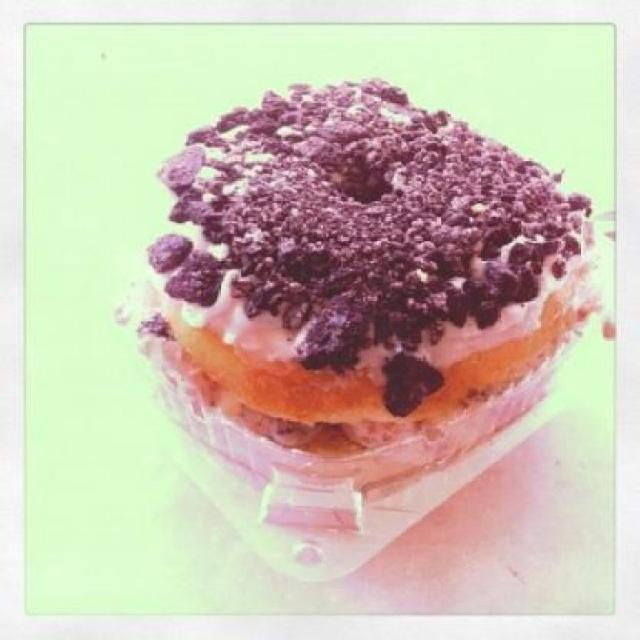Donuts: (100, 69, 640, 554)
